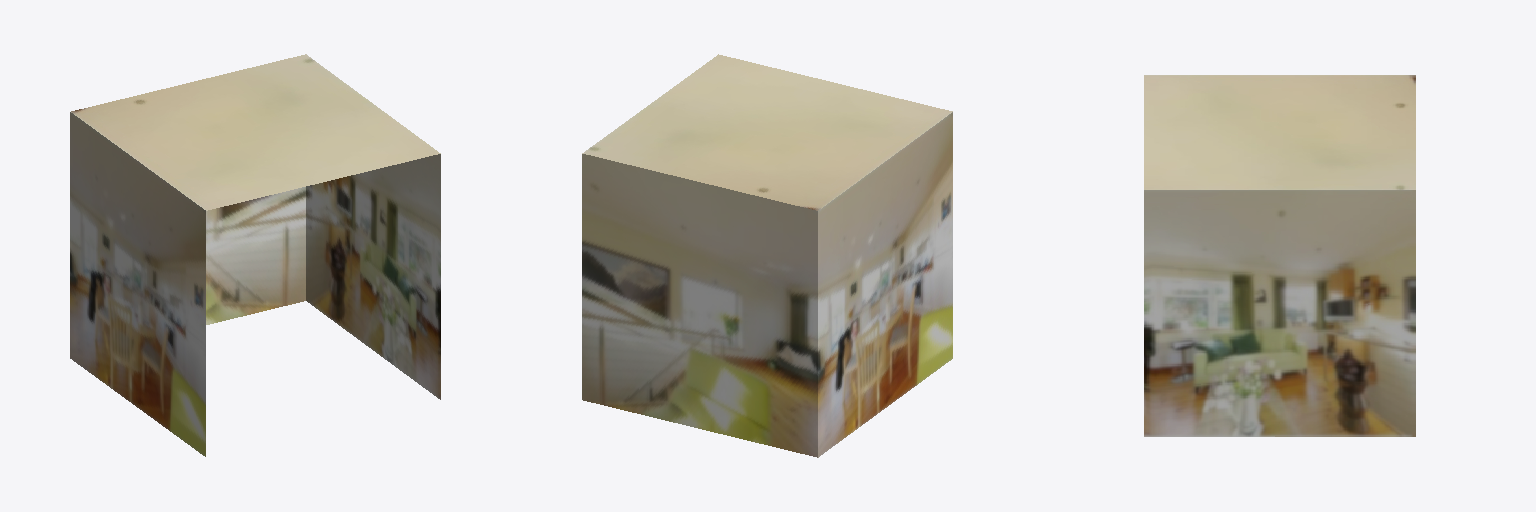
3 renders of one model, left to right at view 1: azimuth 30°, elevation 25°; view 2: azimuth 150°, elevation 25°; view 3: azimuth 270°, elevation 25°, orthographic.
Visible parts, largest first — view 1: Walls:pPlane4; view 2: Walls:pPlane4; view 3: Walls:pPlane4.
Part boxes in pixels (x1,y1,x2,y2): Walls:pPlane4: (70,54,440,456); Walls:pPlane4: (582,54,952,457); Walls:pPlane4: (1144,75,1415,436).
Bounding box in the file's own units: 345 × 345 × 343.
Materials: 1 (1 with a texture image).